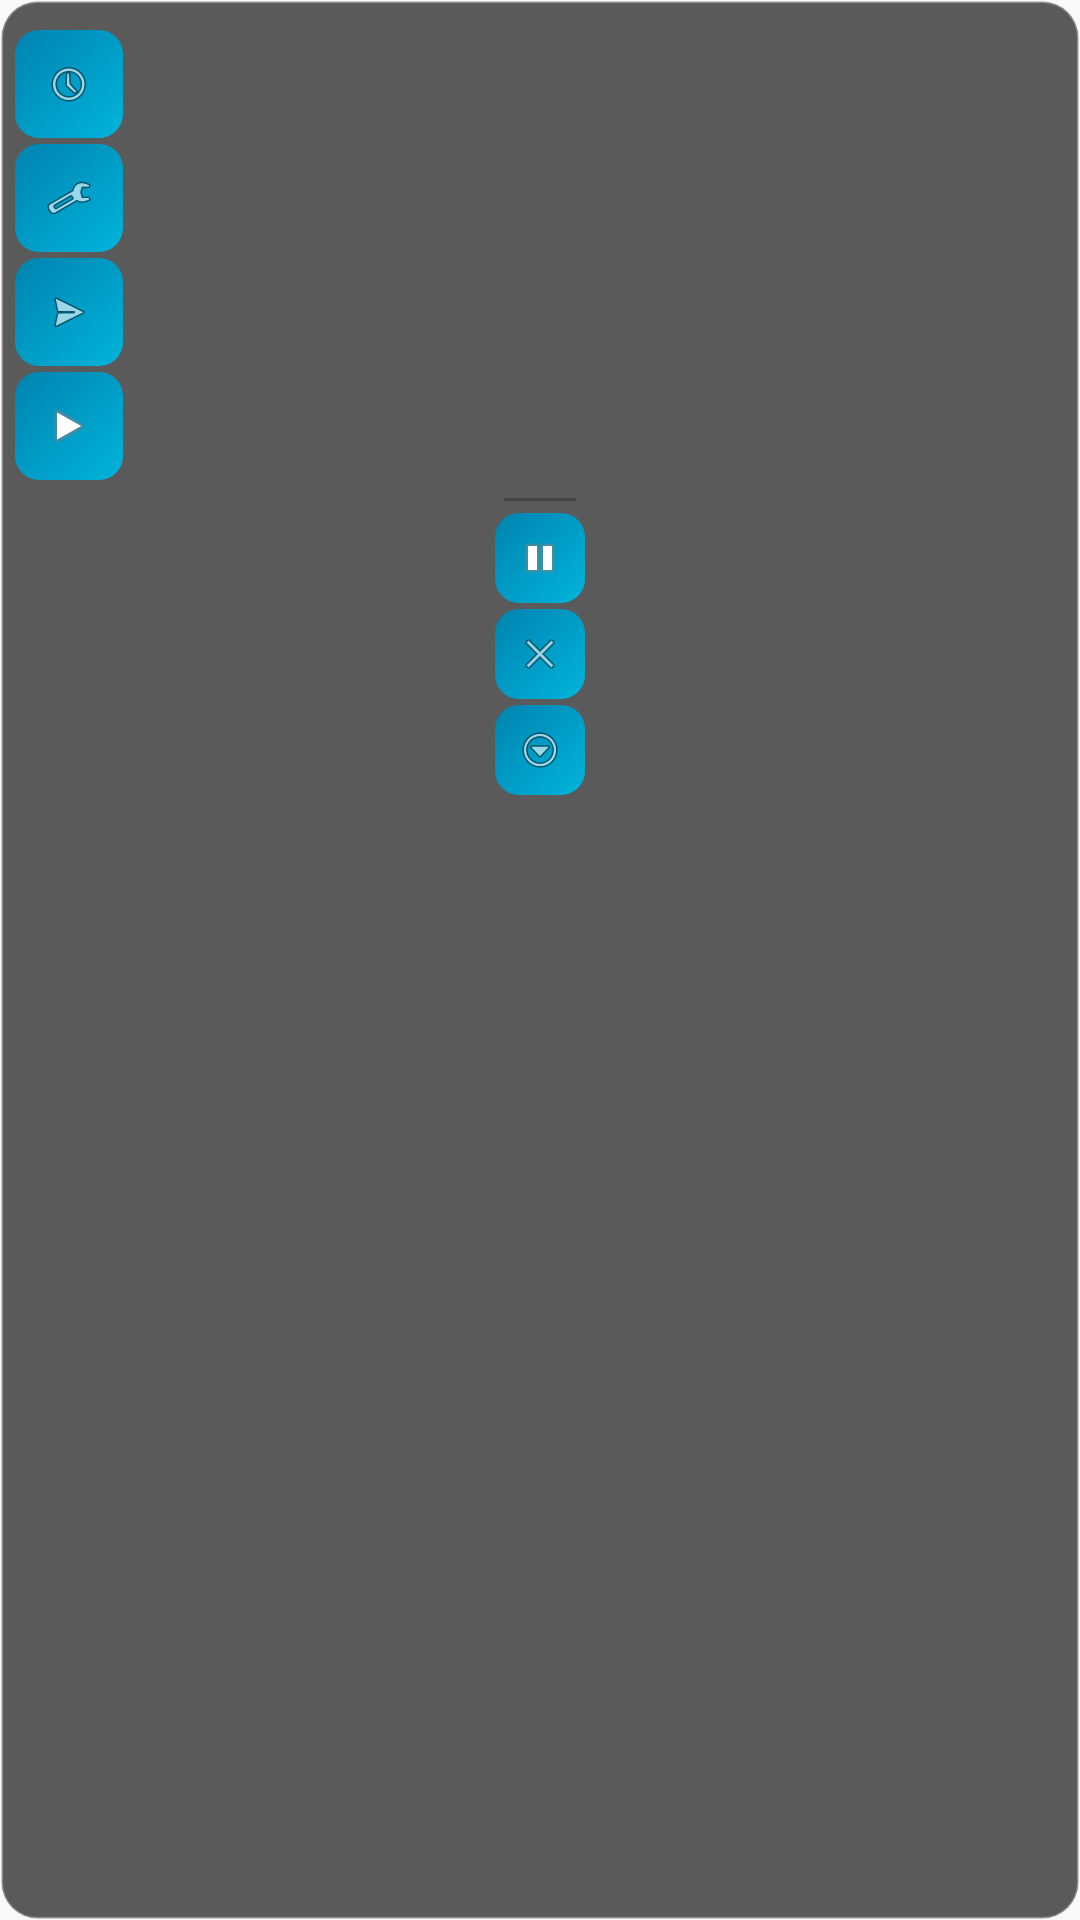

Named icons in this screenshot (1080*1920) and their centers, [x,y]:
关闭: [540,654]
时钟: [69,84]
